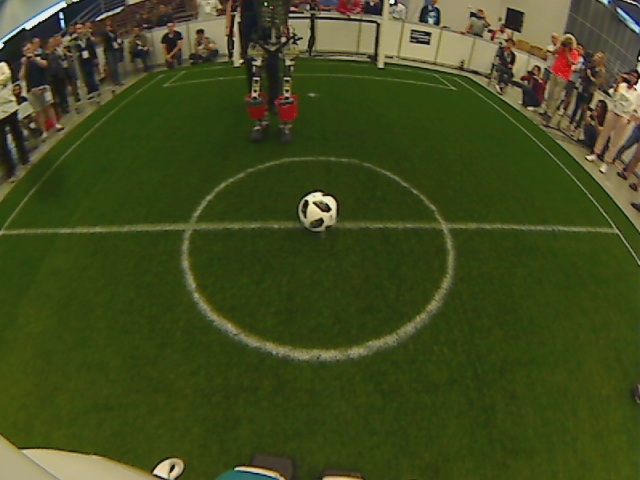ball: (297, 191, 340, 233)
goalpost: (373, 56, 393, 78), (225, 51, 245, 72)
robot: (240, 106, 300, 148)
